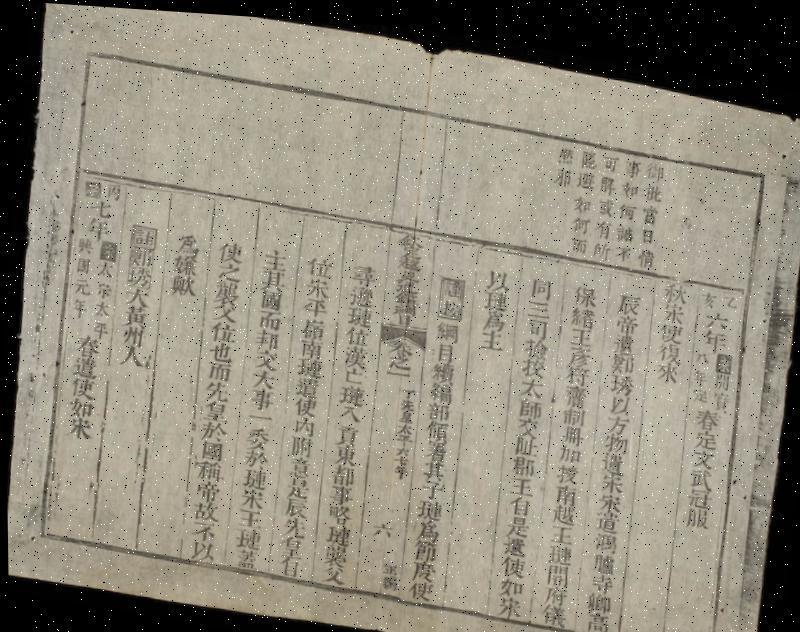c: (274, 544, 303, 576), (382, 332, 415, 360), (128, 218, 158, 248), (258, 242, 290, 270), (210, 274, 240, 303), (348, 255, 378, 284), (691, 396, 722, 424), (231, 520, 262, 548), (613, 282, 644, 310), (70, 331, 101, 359), (410, 510, 440, 538), (245, 381, 275, 409), (242, 420, 272, 448), (541, 554, 571, 582), (215, 234, 245, 262), (569, 274, 599, 302), (304, 249, 335, 276), (481, 260, 512, 287), (62, 414, 93, 441), (66, 373, 97, 400), (412, 490, 444, 516), (658, 270, 690, 296), (501, 504, 530, 532), (497, 545, 526, 573), (189, 495, 219, 522), (321, 517, 351, 544), (250, 322, 280, 349), (336, 376, 366, 403), (566, 296, 597, 322), (520, 307, 551, 333), (594, 461, 625, 487), (536, 594, 567, 620), (166, 270, 197, 296), (192, 455, 224, 480), (275, 530, 303, 558), (560, 374, 588, 402), (119, 301, 148, 328), (340, 339, 369, 366), (298, 311, 327, 338), (431, 312, 460, 339), (236, 482, 266, 508), (698, 317, 728, 343), (199, 395, 229, 421), (230, 542, 260, 568), (546, 494, 576, 520), (590, 501, 620, 527), (543, 534, 573, 560), (278, 510, 308, 536), (302, 270, 332, 296), (299, 290, 329, 316), (238, 462, 268, 488), (680, 496, 710, 522), (606, 342, 636, 368), (550, 454, 580, 480), (424, 374, 454, 400), (68, 353, 98, 379), (346, 278, 376, 304), (187, 516, 218, 541), (592, 482, 623, 507), (382, 350, 413, 375), (209, 296, 240, 321), (284, 450, 312, 477), (588, 541, 616, 568), (476, 321, 504, 348), (116, 341, 144, 368), (172, 227, 200, 254), (545, 514, 574, 540), (510, 424, 539, 450), (563, 336, 592, 362), (409, 532, 438, 558), (683, 476, 712, 502), (597, 441, 626, 467), (434, 290, 463, 316), (418, 452, 447, 478), (504, 486, 533, 512), (581, 602, 610, 628), (208, 316, 237, 342), (407, 552, 436, 578), (123, 262, 152, 288), (420, 412, 449, 438), (516, 368, 545, 394), (651, 350, 680, 376), (700, 298, 730, 323), (185, 535, 215, 560), (322, 497, 352, 522), (326, 458, 356, 483), (505, 466, 535, 491), (239, 442, 269, 467), (478, 281, 508, 306), (293, 350, 323, 375), (233, 502, 264, 526), (415, 472, 446, 496), (256, 284, 284, 310), (550, 474, 578, 500), (526, 268, 554, 294), (342, 318, 370, 344), (654, 330, 682, 356), (508, 446, 536, 472), (520, 328, 548, 354), (332, 418, 360, 444), (292, 370, 320, 396), (606, 362, 634, 388), (286, 429, 314, 455), (125, 242, 154, 267), (565, 317, 594, 342), (324, 477, 353, 502), (478, 301, 507, 326), (191, 475, 220, 500), (498, 526, 527, 551), (280, 491, 309, 516), (601, 404, 630, 429), (201, 375, 230, 400), (598, 423, 628, 447), (494, 568, 524, 592), (560, 356, 590, 380), (404, 572, 434, 596), (689, 418, 719, 442), (257, 264, 287, 288), (253, 304, 283, 328), (582, 582, 612, 606), (202, 356, 232, 380), (198, 416, 228, 440), (64, 395, 94, 419), (121, 284, 151, 308), (436, 268, 464, 293), (686, 457, 714, 482), (344, 299, 372, 324), (170, 250, 198, 275), (213, 257, 242, 281), (611, 304, 640, 328), (539, 576, 568, 600), (608, 323, 637, 347), (366, 512, 395, 536), (492, 588, 521, 612), (295, 332, 324, 356), (282, 472, 310, 496), (420, 432, 448, 456), (603, 384, 631, 408), (688, 438, 716, 462), (590, 522, 618, 546), (556, 415, 584, 439), (288, 410, 316, 434), (330, 438, 358, 462), (658, 292, 686, 316), (250, 344, 278, 368), (428, 355, 456, 379), (290, 390, 318, 414), (196, 436, 224, 460), (317, 560, 346, 583), (517, 349, 546, 372), (117, 322, 146, 345), (320, 539, 346, 564), (512, 408, 539, 432), (431, 335, 458, 359), (554, 435, 582, 458), (206, 337, 234, 360), (82, 215, 110, 238), (248, 364, 276, 387), (656, 312, 684, 335), (514, 389, 542, 412), (558, 398, 587, 420), (423, 394, 450, 417), (523, 291, 551, 313), (586, 564, 614, 586), (86, 196, 114, 218), (334, 398, 362, 420), (390, 288, 416, 310), (96, 236, 118, 262), (711, 340, 734, 364), (642, 151, 666, 174), (640, 172, 663, 196), (339, 362, 366, 382), (620, 149, 643, 172), (572, 161, 596, 183), (638, 194, 660, 218), (611, 214, 635, 236), (568, 186, 592, 208), (577, 140, 599, 164), (244, 406, 274, 423), (554, 136, 576, 159), (634, 238, 656, 261), (550, 158, 572, 181), (67, 294, 88, 318), (70, 274, 92, 296), (566, 227, 589, 248), (591, 210, 612, 233), (615, 192, 638, 213), (396, 226, 424, 243), (709, 380, 730, 402), (101, 178, 122, 200), (599, 144, 620, 166), (568, 206, 590, 227), (595, 166, 616, 188), (394, 252, 422, 268), (610, 236, 632, 256), (617, 172, 639, 192), (594, 188, 614, 210), (711, 361, 731, 382), (74, 234, 94, 255), (698, 279, 718, 300), (590, 232, 610, 253), (690, 357, 709, 379), (394, 274, 420, 290), (88, 318, 108, 338), (94, 258, 114, 278), (689, 376, 709, 396), (399, 240, 423, 256), (72, 254, 91, 274), (92, 297, 110, 318), (94, 278, 112, 299), (395, 263, 419, 278), (379, 568, 397, 588), (638, 218, 656, 238), (720, 282, 738, 300), (692, 339, 710, 357), (83, 179, 100, 198), (390, 457, 407, 475), (390, 436, 410, 451), (396, 391, 414, 407), (397, 379, 415, 395), (395, 404, 412, 420), (392, 417, 412, 430), (380, 557, 398, 571), (394, 307, 412, 321), (392, 428, 410, 441), (390, 448, 408, 460)
